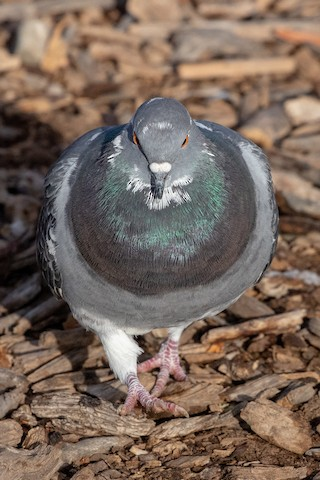pigeon: (34, 91, 282, 426)
